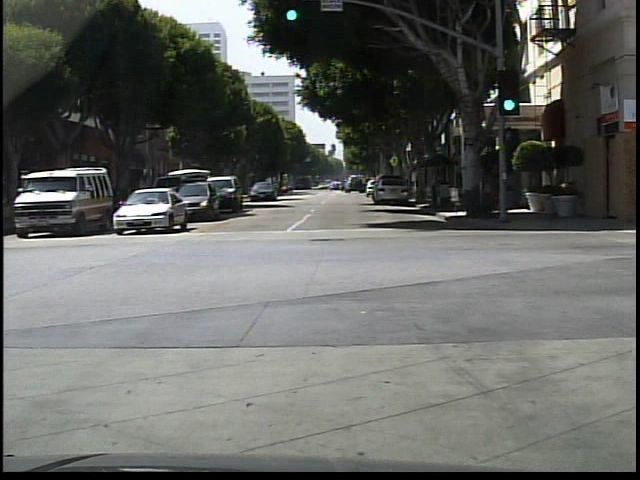person: (488, 161, 501, 217), (428, 169, 443, 211)
